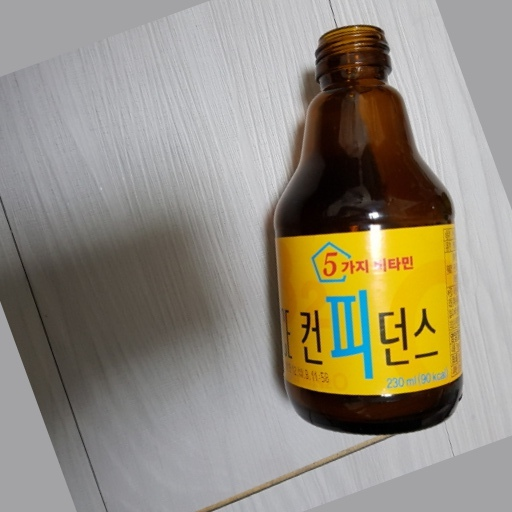Glass_3: (263, 20, 467, 440)
